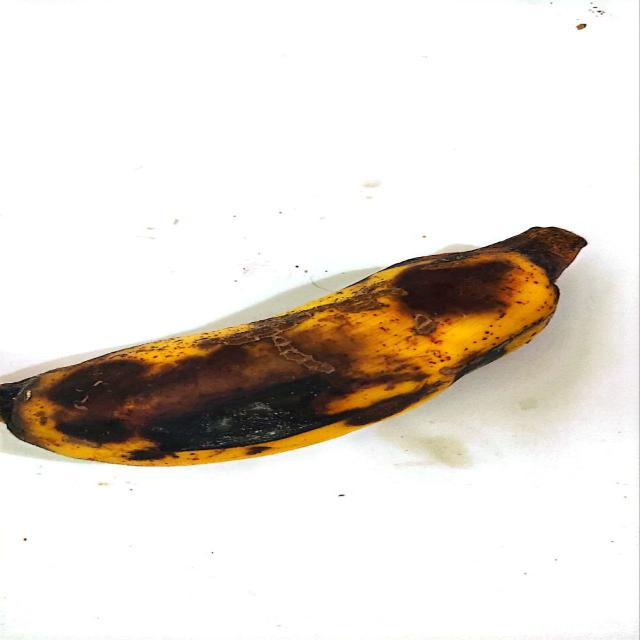rotten_banana: (0, 225, 590, 467)
